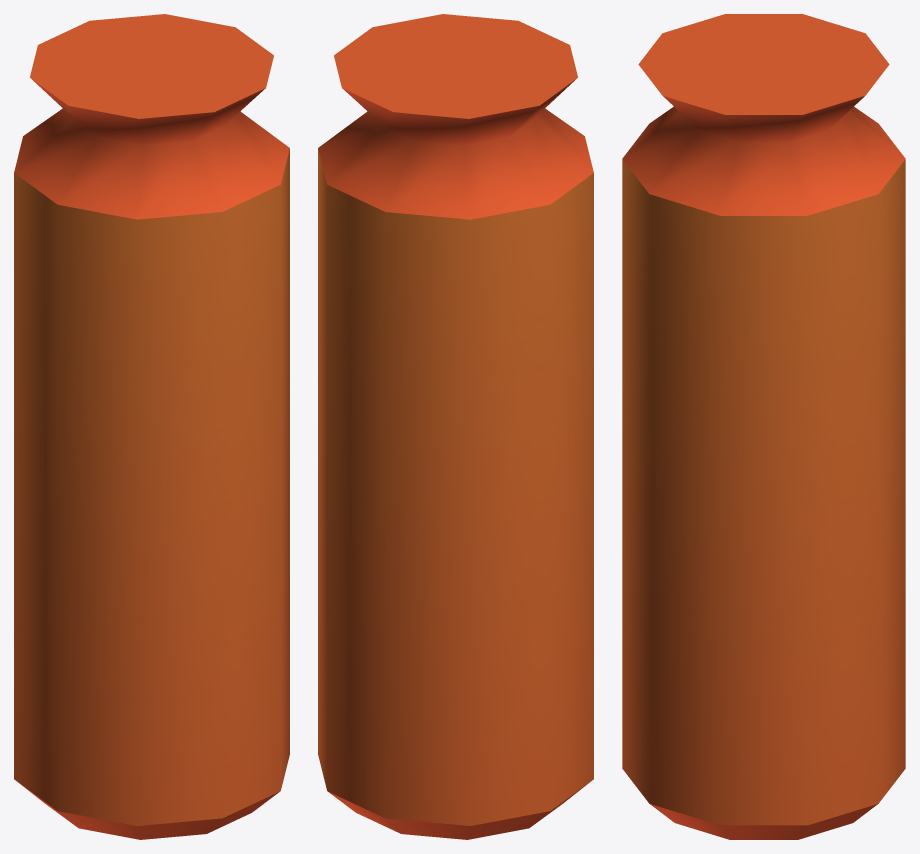
Rendered from Bullet F.fbx.
3 renders of one model, left to right at view 1: azimuth 30°, elevation 25°; view 2: azimuth 150°, elevation 25°; view 3: azimuth 270°, elevation 25°, orthographic.
Parts seen in each view (by area): view 1: Bullet F; view 2: Bullet F; view 3: Bullet F.
Boxes of the visible parts, left/top/right/bottom form: Bullet F: left=14, top=14, right=289, bottom=839; Bullet F: left=318, top=14, right=593, bottom=839; Bullet F: left=622, top=14, right=905, bottom=839.
Bounding box in the file's own units: 0.0549 × 0.1641 × 0.0577.
